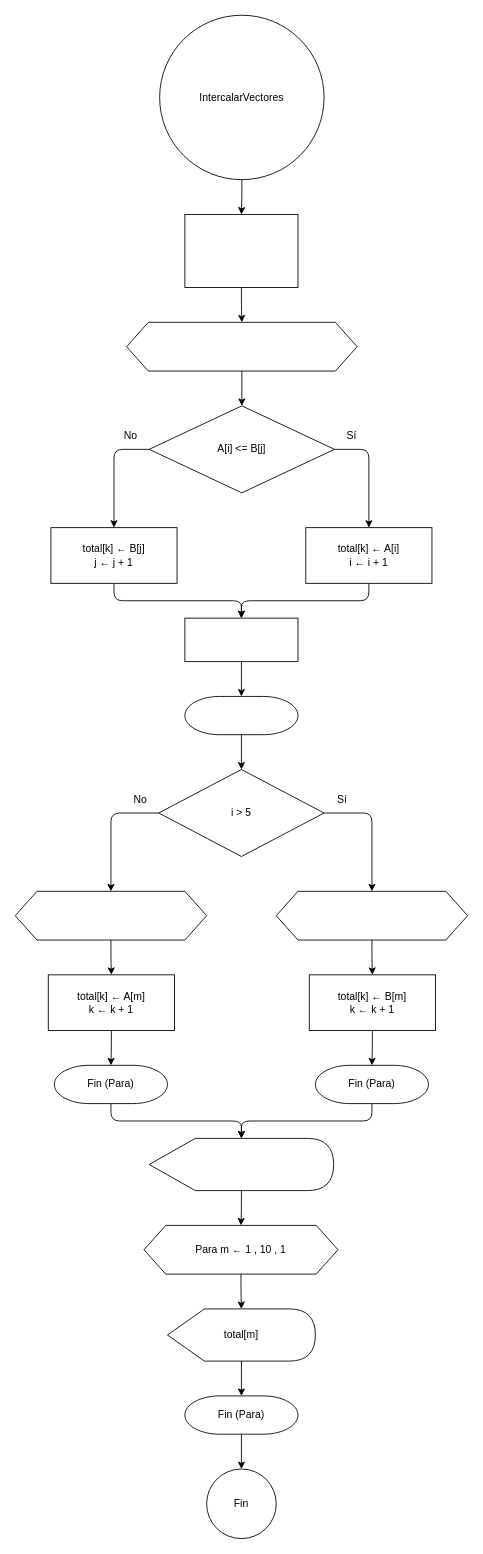
The diagram is 483 pixels wide and 1554 high, and some of its shapes have lost their labels. The shapes that lost their labels are listed below. From the top down, each one's centre as x and y in pixels, then its label:
(241,251): i ← 1 j ← 1 k ← 1
(241,346): MQ (i <= 5) and (j <= 5)
(241,639): k ← k + 1
(241,715): Fin (MQ)
(110,915): Para m ← i , 5 , 1
(371,915): Para m ← j , 5 , 1
(241,1164): "Nuevo vector: "
